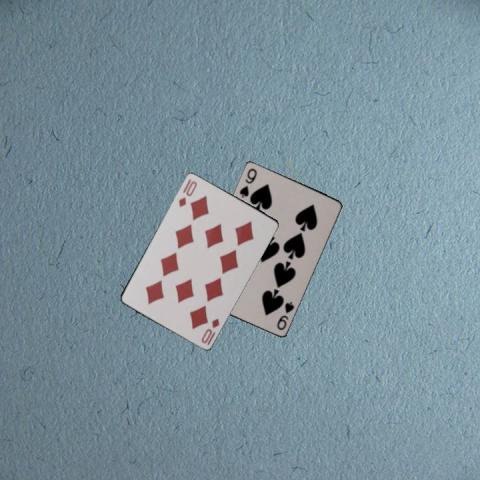10d: (198, 315, 221, 347), (175, 178, 198, 208)
9s: (273, 298, 296, 331), (236, 164, 258, 198)
